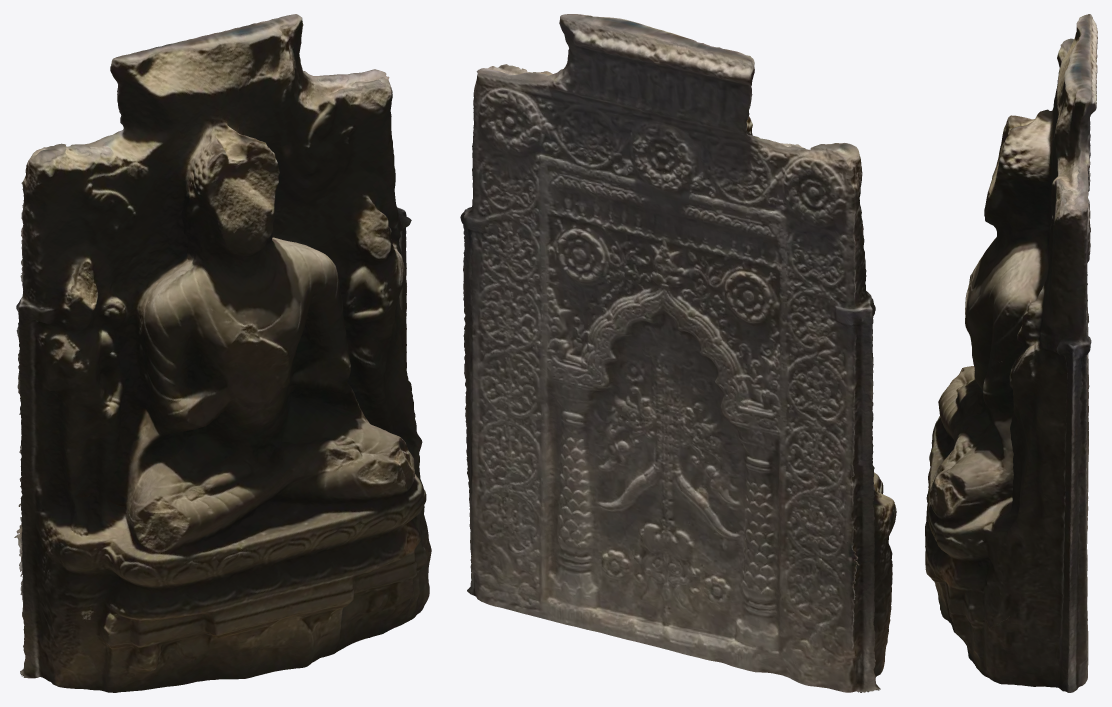
Rendered from preview.glb.
3 renders of one model, left to right at view 1: azimuth 30°, elevation 25°; view 2: azimuth 150°, elevation 25°; view 3: azimuth 270°, elevation 25°, orthographic. The views are drawn at different scales.
Visible parts, largest first — view 1: Object_2; view 2: Object_2; view 3: Object_2.
Part boxes in pixels (x1,y1,x2,y2): Object_2: [14, 14, 431, 692]; Object_2: [460, 14, 896, 692]; Object_2: [925, 14, 1097, 692].
Bounding box in the file's own units: 11.92 × 17.02 × 4.81.
1 material, 1 textured.
